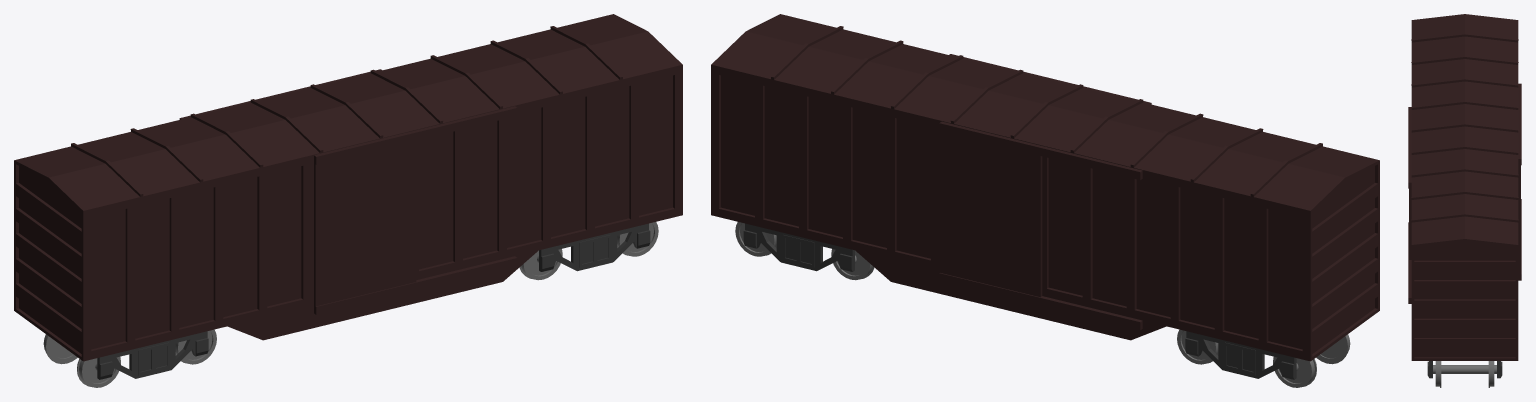
File: freight_car.dae
3 views of the same model, side by side, from view 1: azimuth 30°, elevation 25°; view 2: azimuth 150°, elevation 25°; view 3: azimuth 270°, elevation 25° (orthographic). The views are drawn at different scales.
Visible parts, largest first — view 1: SHELL (×3), group_12, FRAME, group_13 (×2), BOGEY_REAR, BOGEY_FRONT; view 2: SHELL (×3), group_0, FRAME, group_1 (×2), BOGEY_REAR, BOGEY_FRONT; view 3: SHELL, BOGEY_REAR_WHEEL_1 (×3), group_13 (×2), group_1, group_0, group_12, group_6, group_18, group_3, group_10, group_15, group_22 (+13 smaller).
Part boxes in pixels (box(x1,y1,x2,y2)): SHELL (×3): box(14, 14, 682, 361); group_12: box(314, 140, 416, 306); FRAME: box(227, 250, 538, 340); group_13 (×2): box(314, 106, 517, 314); BOGEY_REAR: box(539, 223, 650, 271); BOGEY_FRONT: box(97, 331, 208, 379); SHELL (×3): box(711, 14, 1379, 361); group_0: box(940, 131, 1042, 297); FRAME: box(855, 250, 1166, 340); group_1 (×2): box(939, 121, 1142, 330); BOGEY_REAR: box(743, 223, 854, 271); BOGEY_FRONT: box(1185, 331, 1296, 379); SHELL: box(1411, 14, 1518, 360); BOGEY_REAR_WHEEL_1 (×3): box(1433, 361, 1496, 386); group_13 (×2): box(1408, 107, 1411, 303); group_1: box(1518, 83, 1521, 165); group_0: box(1518, 165, 1520, 274); group_12: box(1409, 188, 1411, 259); group_6: box(1411, 78, 1464, 87); group_18: box(1465, 78, 1518, 87); group_3: box(1411, 213, 1464, 222); group_10: box(1411, 123, 1464, 132); group_15: box(1465, 213, 1518, 222); group_22: box(1465, 123, 1518, 132).
Bounding box in the file's own units: 600 × 128 × 199.
